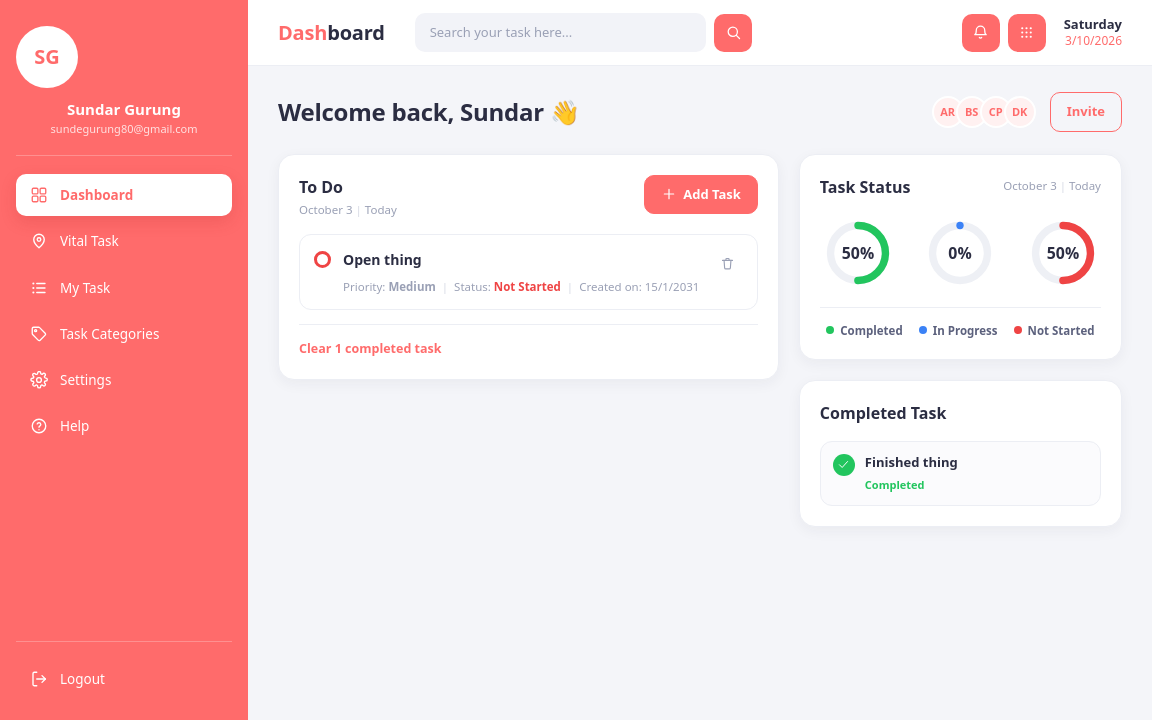
Scenario: sidebar navigation › lists every task in My Task
Expected: the heading "Open thing" is shown, [343,250,422,269]
Click the button "My Task" at (124, 288), box [16,266,232,309]
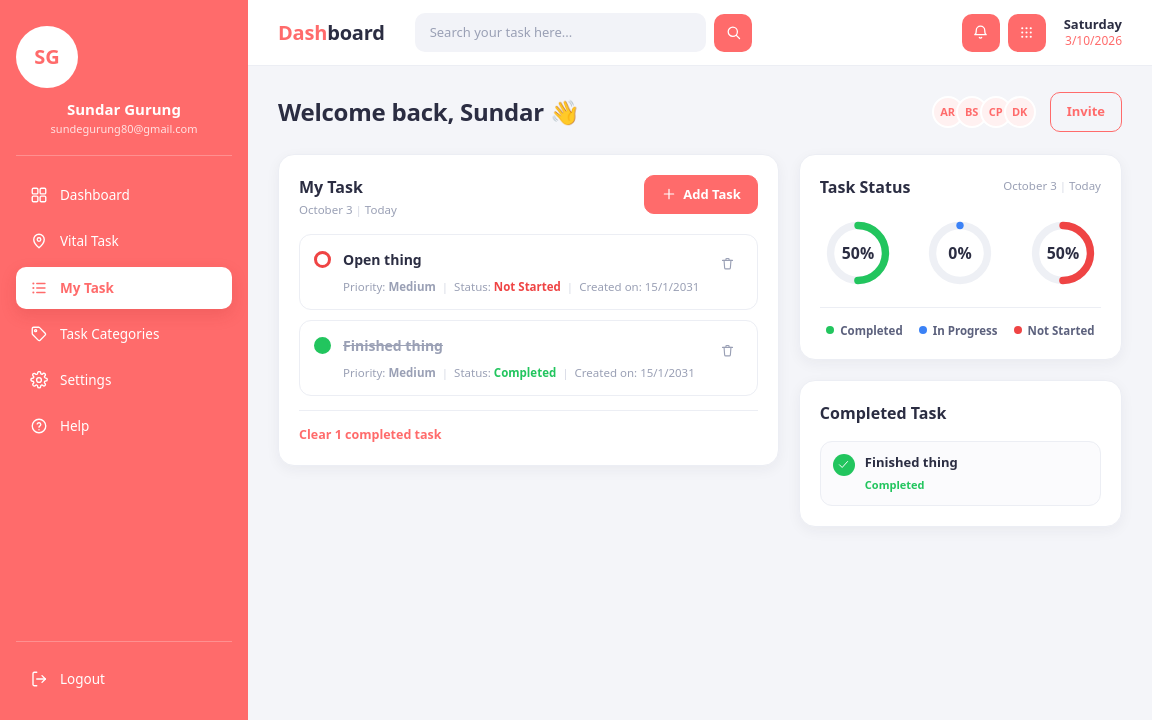
Expected: the element that starts with "My Task" shows "Open thing", [343,250,422,269]
Result: the element that starts with "My Task" shows "Finished thing" at [343,336,443,355]
